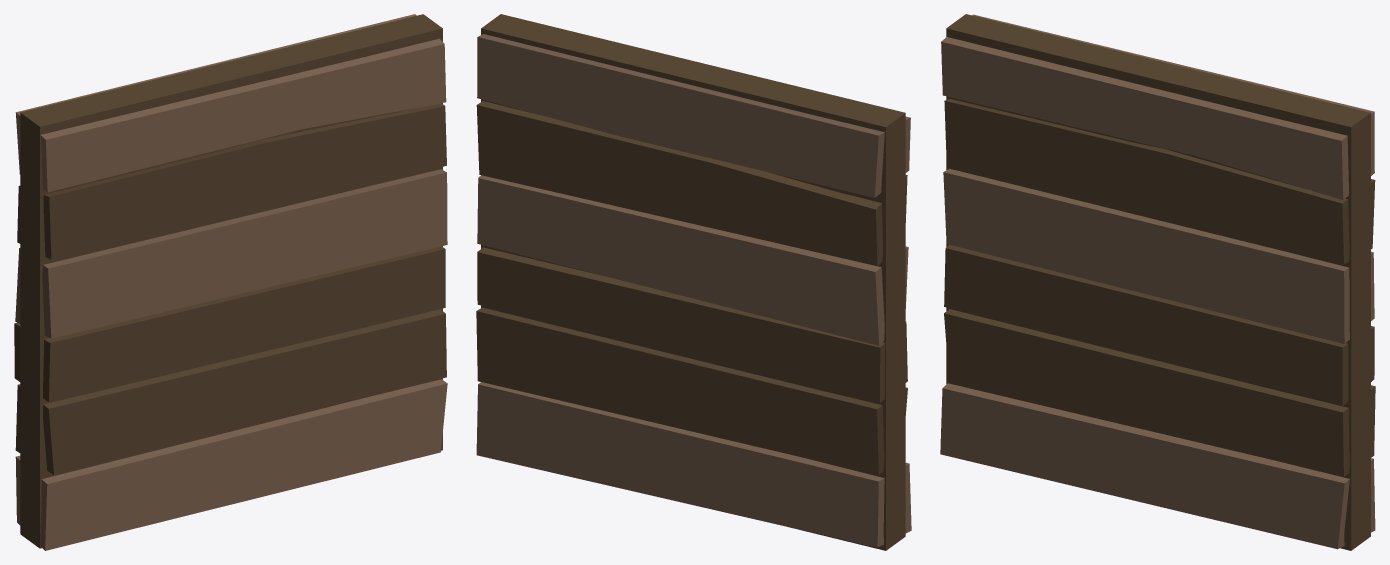
The model's file is enchantedforest_wall_wood_2.fbx.
3 renders of one model, left to right at view 1: azimuth 30°, elevation 25°; view 2: azimuth 150°, elevation 25°; view 3: azimuth 330°, elevation 25°, orthographic.
Parts seen in each view (by area): view 1: Cube.011; view 2: Cube.011; view 3: Cube.011.
Boxes of the visible parts, x1,y1,x2,y2 form: Cube.011: [14, 14, 447, 550]; Cube.011: [476, 14, 911, 550]; Cube.011: [940, 14, 1375, 550].
Bounding box in the file's own units: 3 × 3 × 0.4.
